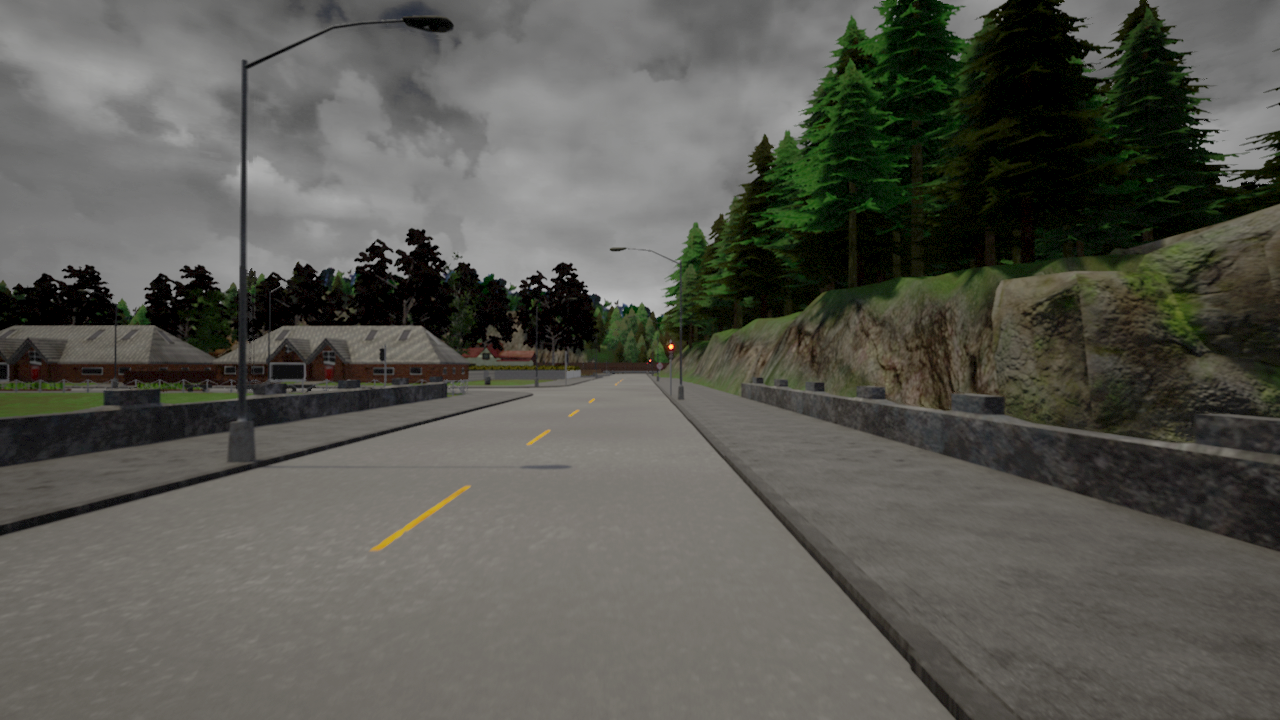red: (667, 343, 674, 360)
